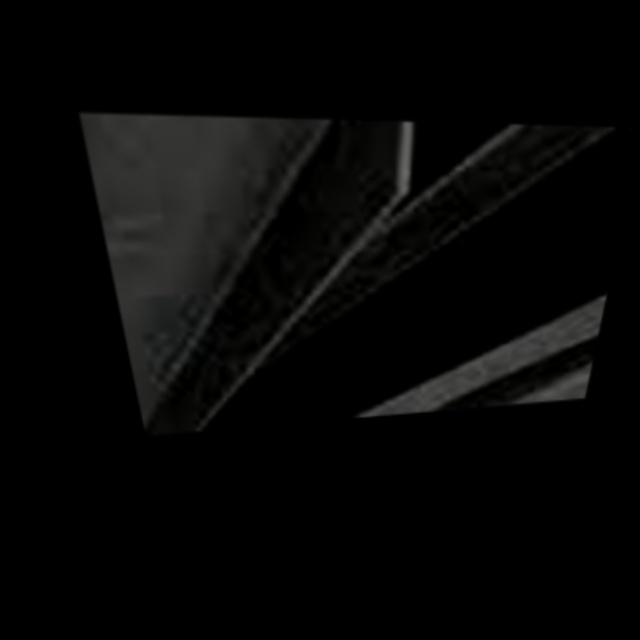Shveller: (80, 114, 408, 193)
